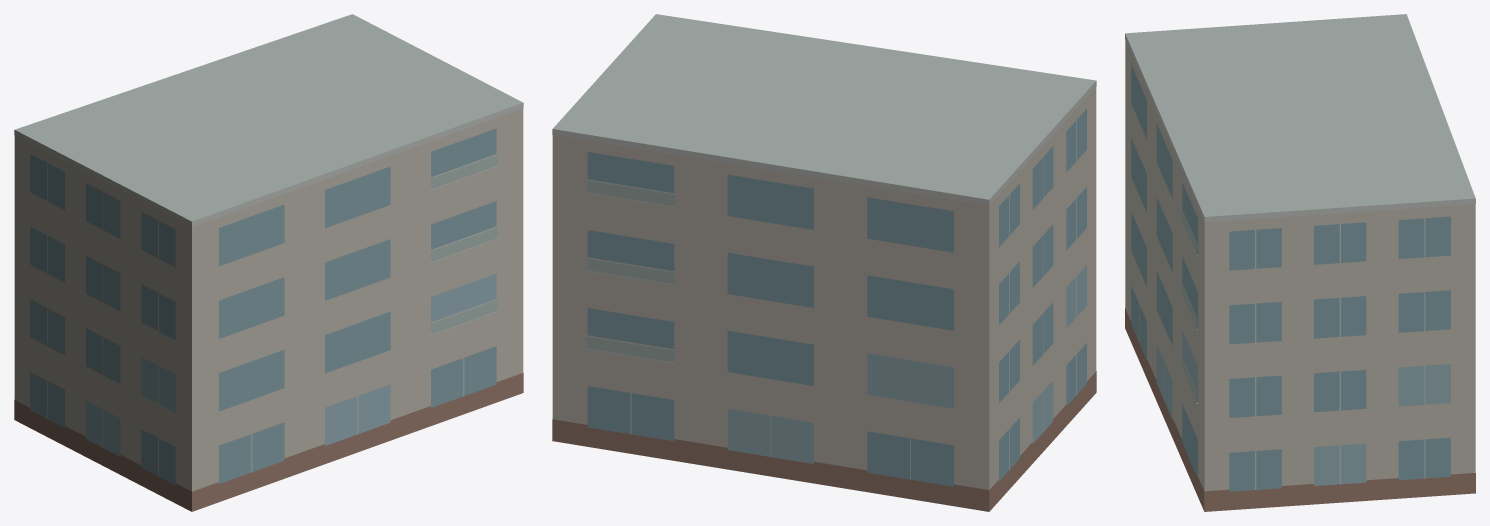
File: survey-upis-32635445.glb
The picture shows the model from 3 angles, left to right: view 1: azimuth 30°, elevation 25°; view 2: azimuth 150°, elevation 25°; view 3: azimuth 270°, elevation 25°; orthographic projection. The views are drawn at different scales.
Visible parts, largest first — view 1: survey-upis-32635445.tmp; view 2: survey-upis-32635445.tmp; view 3: survey-upis-32635445.tmp.
Part boxes in pixels (left/top/right/bottom): survey-upis-32635445.tmp: left=14, top=14, right=523, bottom=511; survey-upis-32635445.tmp: left=552, top=14, right=1096, bottom=511; survey-upis-32635445.tmp: left=1125, top=14, right=1475, bottom=511.
Size of the model in its own units: 18.9 by 12.8 by 13.81.
